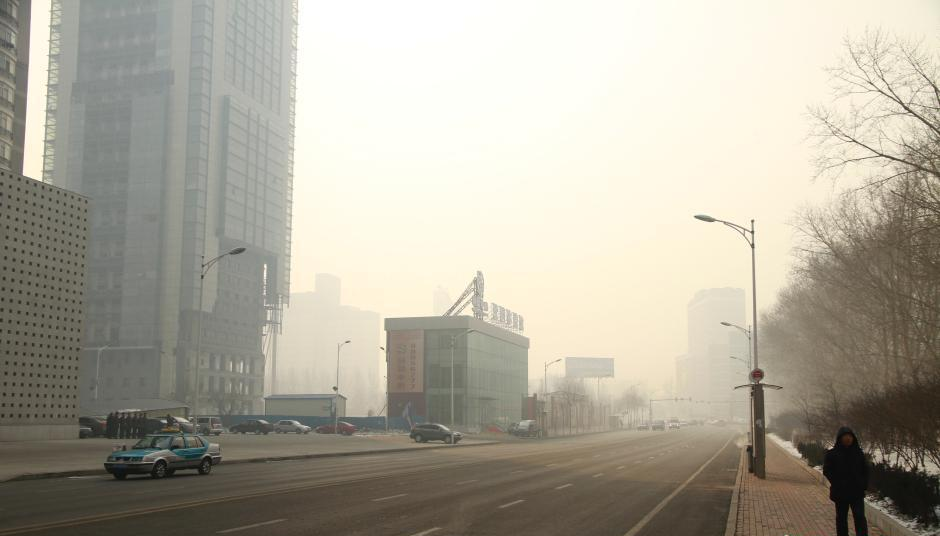car: (104, 426, 222, 480), (821, 425, 875, 536), (409, 422, 463, 444), (228, 417, 275, 436), (186, 416, 224, 438), (314, 418, 359, 435), (272, 417, 312, 436), (161, 415, 197, 433), (141, 416, 174, 433), (516, 418, 538, 438), (507, 420, 522, 433), (652, 418, 665, 431), (668, 417, 681, 429), (636, 420, 650, 429), (678, 419, 689, 427)
